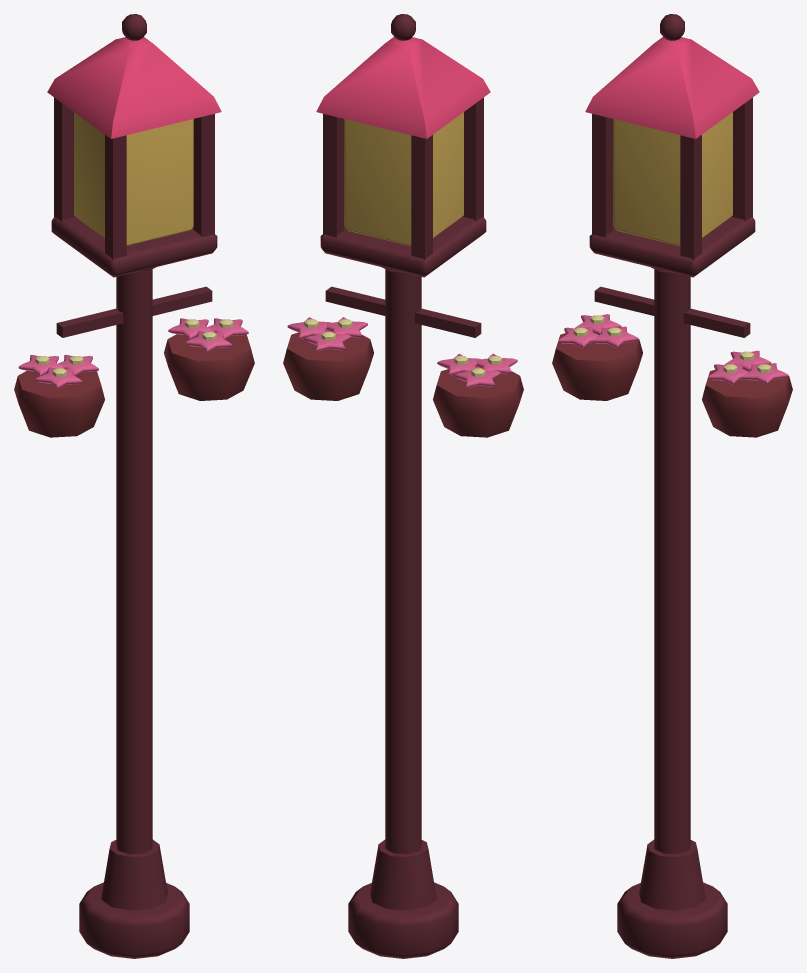
Rendered from citrus-lamp.glb.
3 views of the same model, side by side, from view 1: azimuth 30°, elevation 25°; view 2: azimuth 150°, elevation 25°; view 3: azimuth 330°, elevation 25° (orthographic).
Visible parts, largest first — view 1: citrus-lamp; view 2: citrus-lamp; view 3: citrus-lamp.
Boxes of the visible parts, box(x1,y1,x2,y2) form: citrus-lamp: box(14, 14, 254, 958); citrus-lamp: box(283, 14, 523, 958); citrus-lamp: box(552, 14, 792, 958).
Bounding box in the file's own units: 0.68 × 2.6 × 0.3253.
